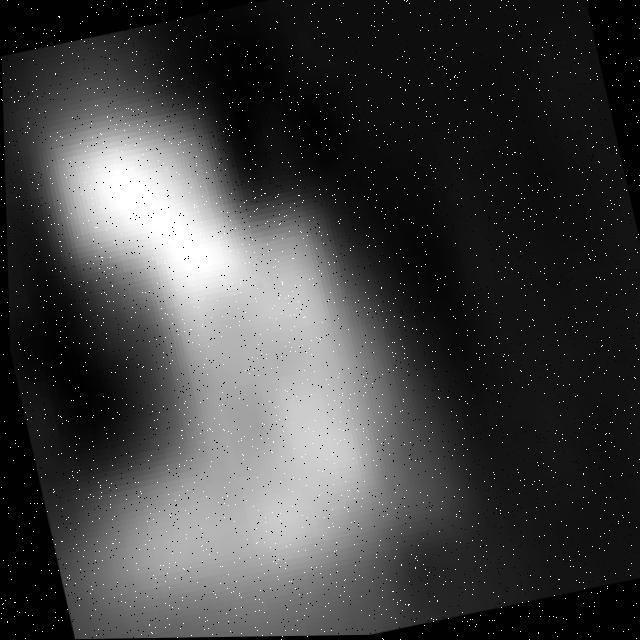person: (2, 26, 470, 640)
